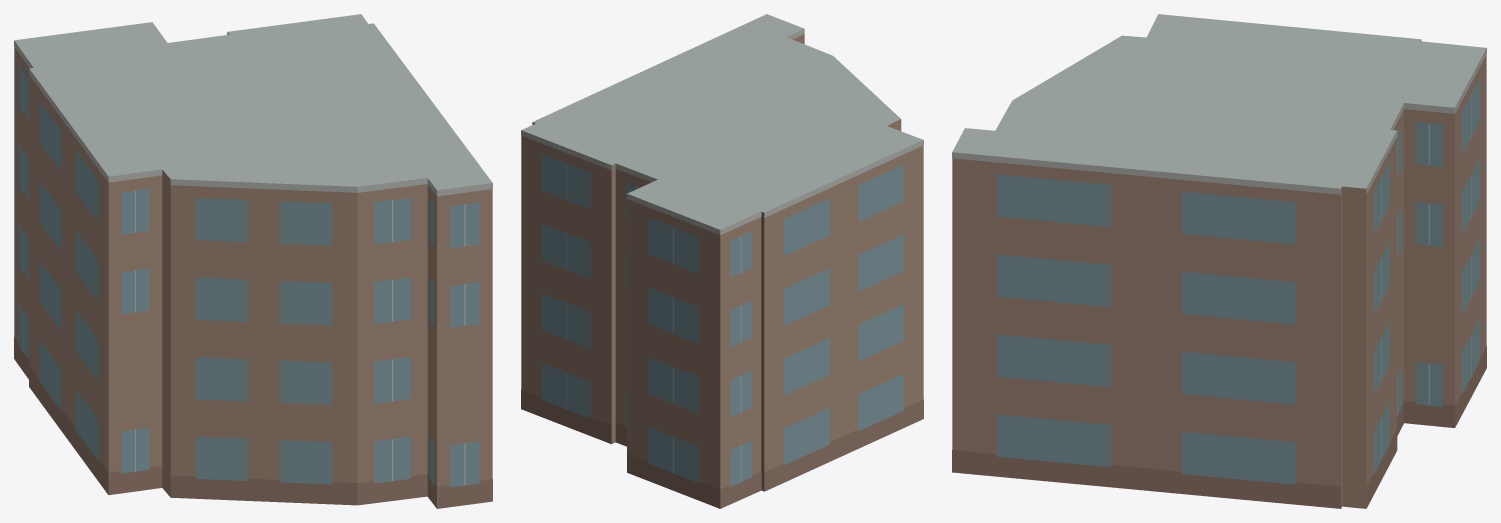
The model's file is survey-upis-32658072.glb.
3 renders of one model, left to right at view 1: azimuth 30°, elevation 25°; view 2: azimuth 150°, elevation 25°; view 3: azimuth 270°, elevation 25°, orthographic. The views are drawn at different scales.
Parts seen in each view (by area): view 1: survey-upis-32658072.tmp; view 2: survey-upis-32658072.tmp; view 3: survey-upis-32658072.tmp.
Part boxes in pixels (x1=…): survey-upis-32658072.tmp: x1=14, y1=14, x2=492, y2=508; survey-upis-32658072.tmp: x1=521, y1=14, x2=923, y2=508; survey-upis-32658072.tmp: x1=952, y1=14, x2=1486, y2=508.
Size of the model in its own units: 15.11 by 12.9 by 19.53.
